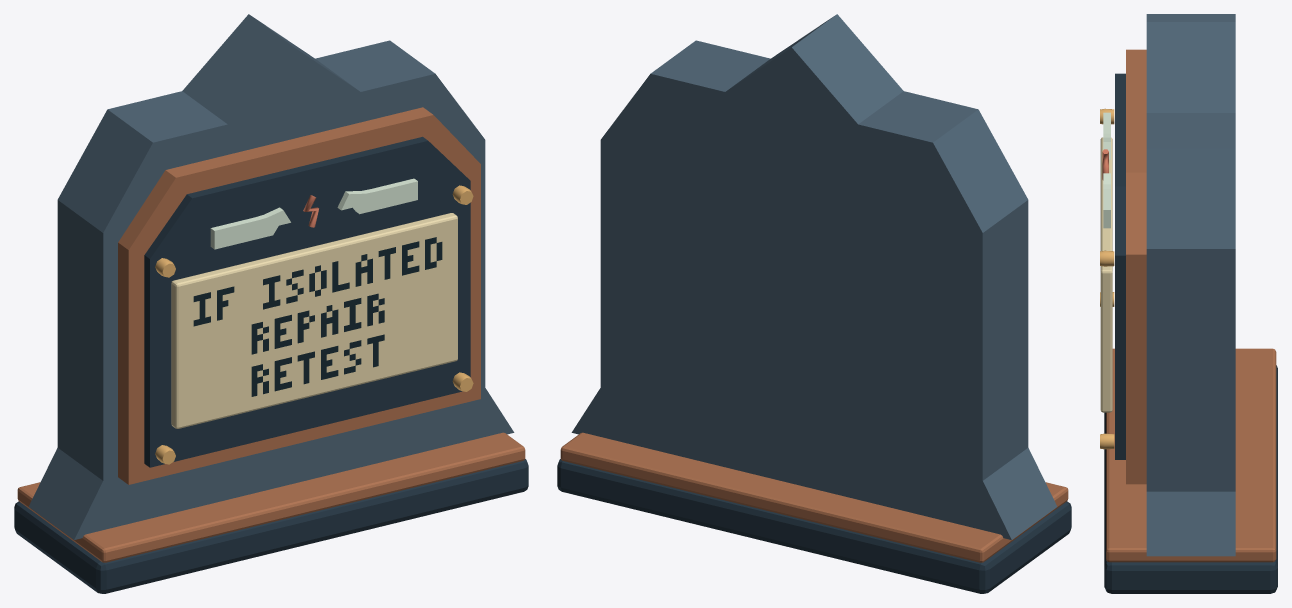
The picture shows the model from 3 angles, left to right: view 1: azimuth 30°, elevation 25°; view 2: azimuth 150°, elevation 25°; view 3: azimuth 270°, elevation 25°; orthographic projection. The views are drawn at different scales.
Parts seen in each view (by area): view 1: PR120 enamel and hardware; view 2: PR120 enamel and hardware; view 3: PR120 enamel and hardware.
Boxes of the visible parts, <box> form: PR120 enamel and hardware: <box>14,14,528,593</box>; PR120 enamel and hardware: <box>557,14,1071,593</box>; PR120 enamel and hardware: <box>1100,14,1277,593</box>.
Bounding box in the file's own units: 1.1 × 1.15 × 0.3927.
